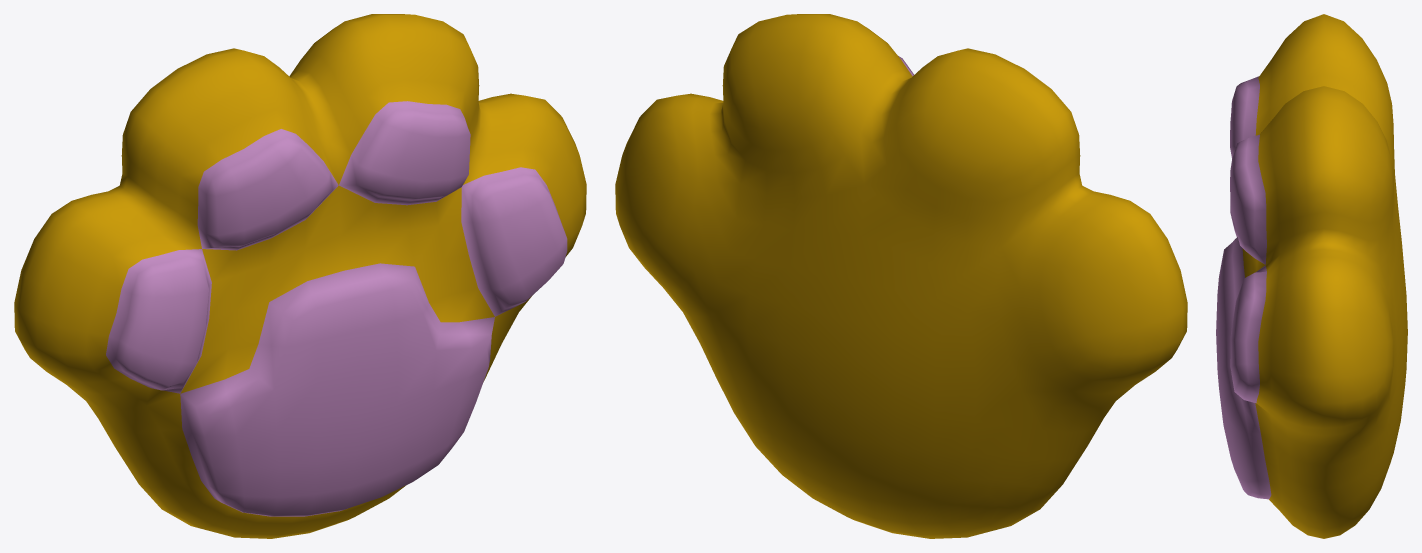
File: CatPaw.fbx
3 renders of one model, left to right at view 1: azimuth 30°, elevation 25°; view 2: azimuth 150°, elevation 25°; view 3: azimuth 270°, elevation 25°, orthographic. The views are drawn at different scales.
Visible parts, largest first — view 1: CatPaw; view 2: CatPaw; view 3: CatPaw.
Part boxes in pixels (x1,y1,x2,y2): CatPaw: [14, 14, 586, 538]; CatPaw: [615, 14, 1187, 538]; CatPaw: [1216, 14, 1407, 538].
Bounding box in the file's own units: 1.25 × 1.05 × 0.3992.
